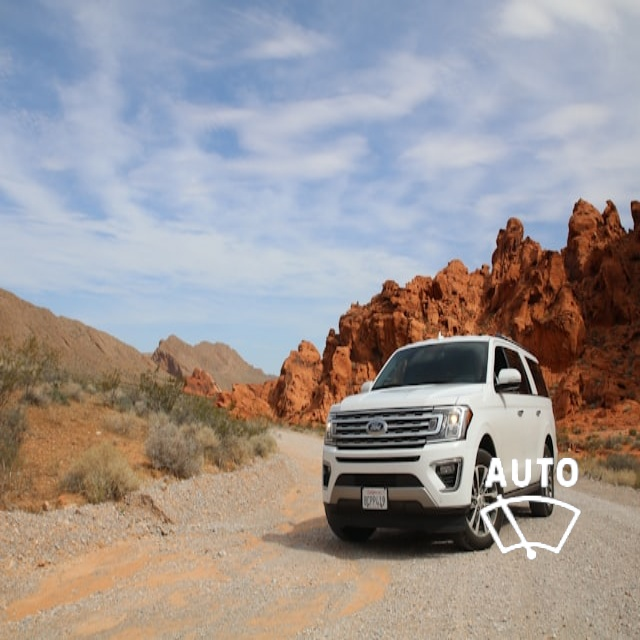symbol: (449, 428, 614, 593)
